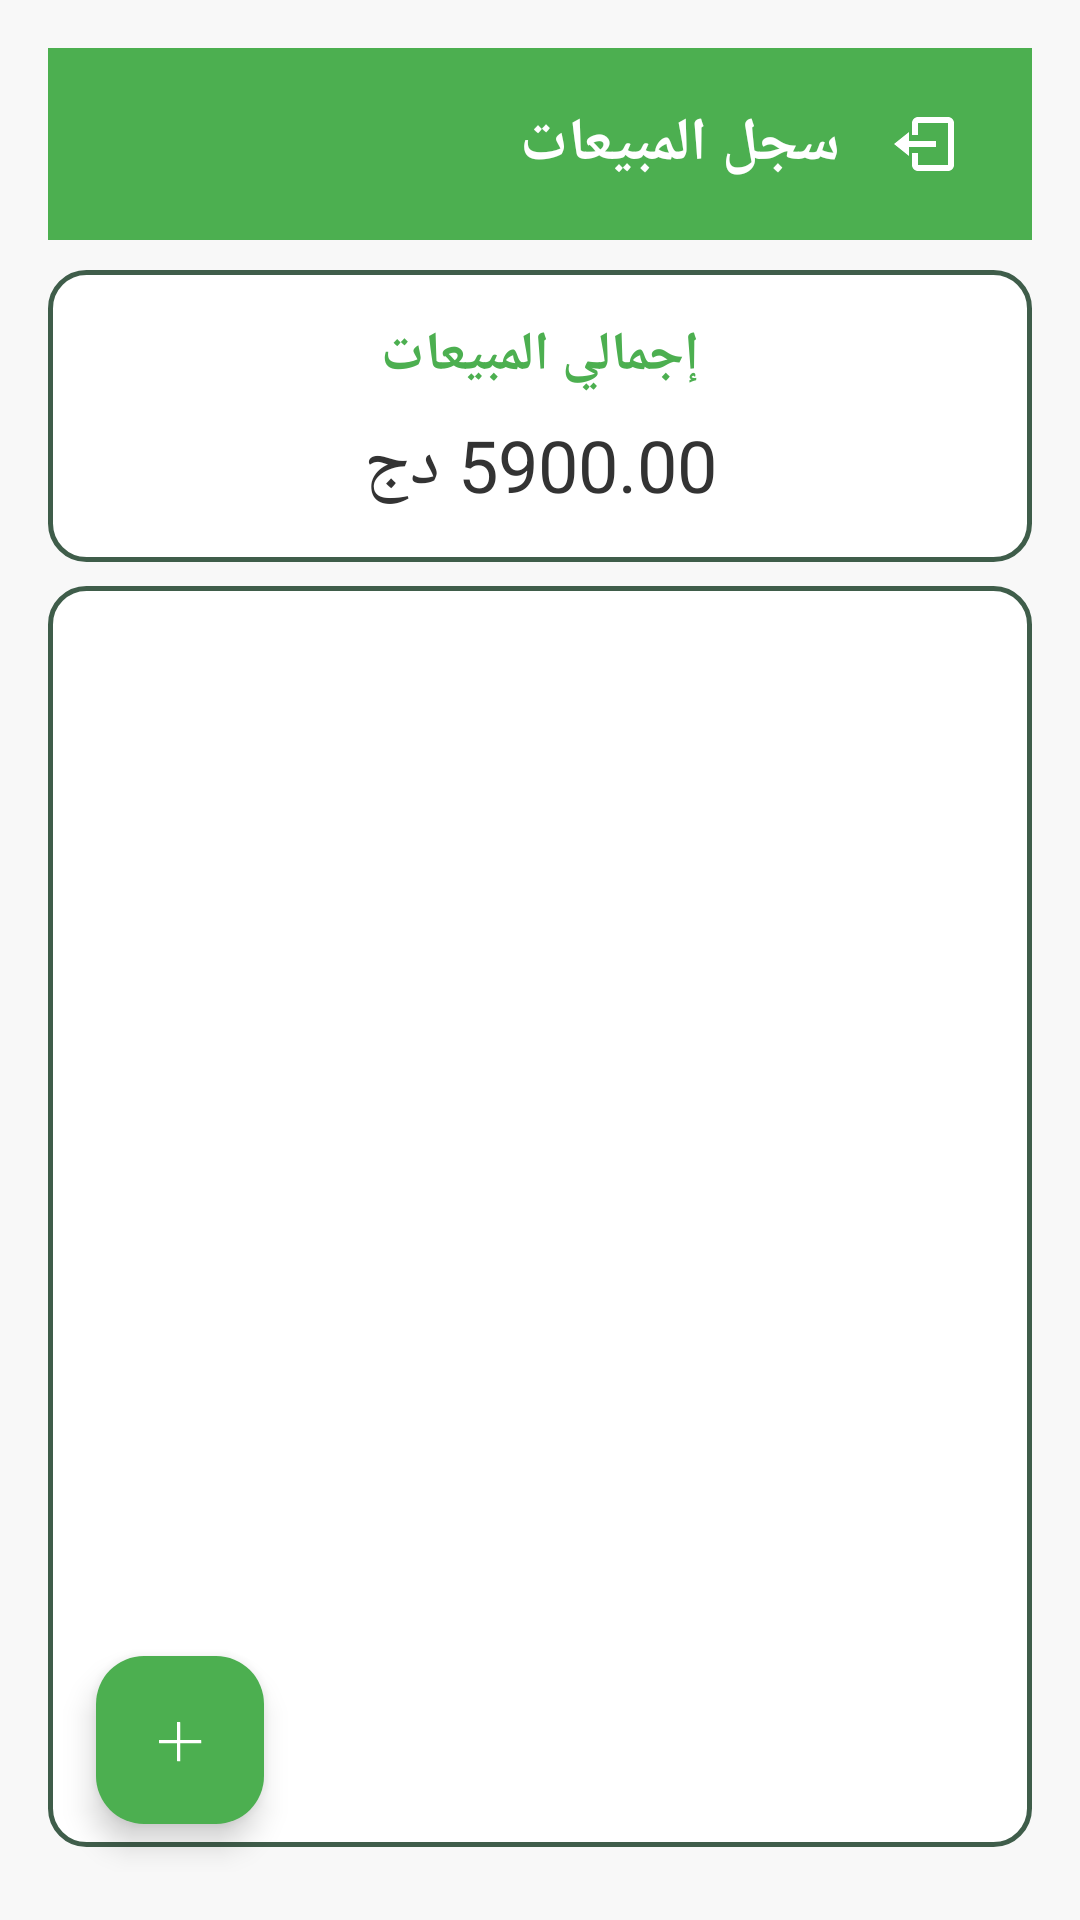

Screen size 1080 x 1920. Icon name, then its box in pixels as (x1, y1, x2, y2):
إضافة طلبية جديدة: (96, 1656, 264, 1824)
